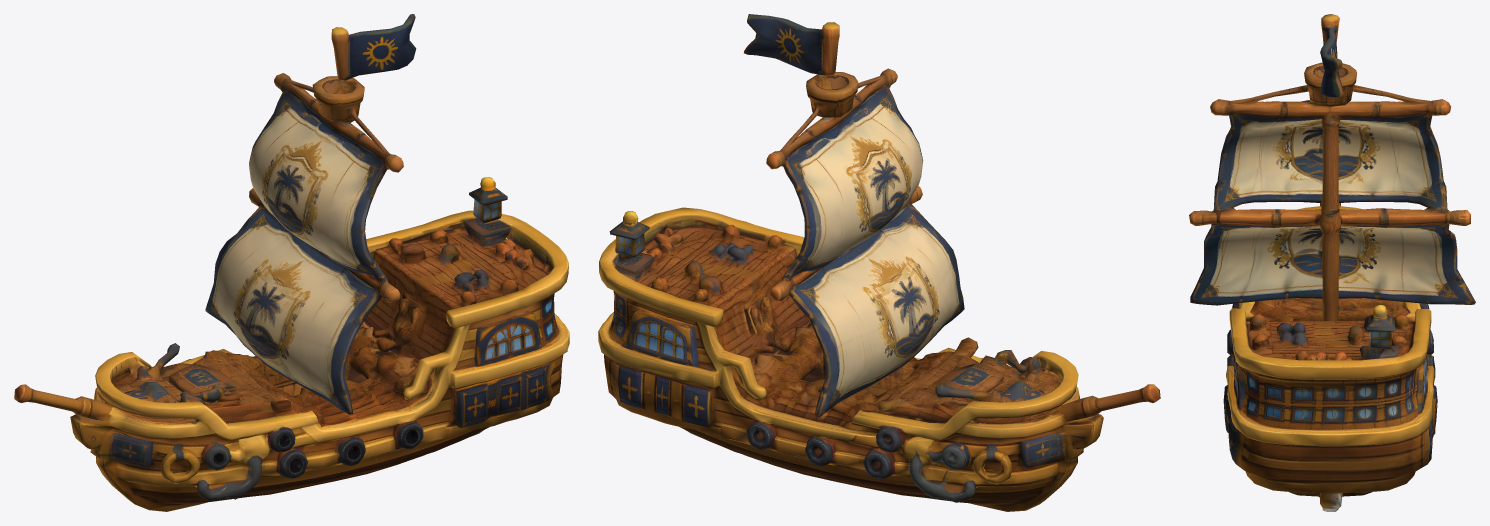
File: Meshy_AI_Golden_Palm_Galleon_0522013332_texture.fbx
The picture shows the model from 3 angles, left to right: view 1: azimuth 30°, elevation 25°; view 2: azimuth 150°, elevation 25°; view 3: azimuth 270°, elevation 25°; orthographic projection. The views are drawn at different scales.
Visible parts, largest first — view 1: Mesh_0; view 2: Mesh_0; view 3: Mesh_0.
Boxes of the visible parts, x1,y1,x2,y2 form: Mesh_0: (14,14,569,511); Mesh_0: (598,14,1160,511); Mesh_0: (1189,14,1475,511).
Size of the model in its own units: 191 by 151 by 90.8.
Materials: 1 (1 with a texture image).
